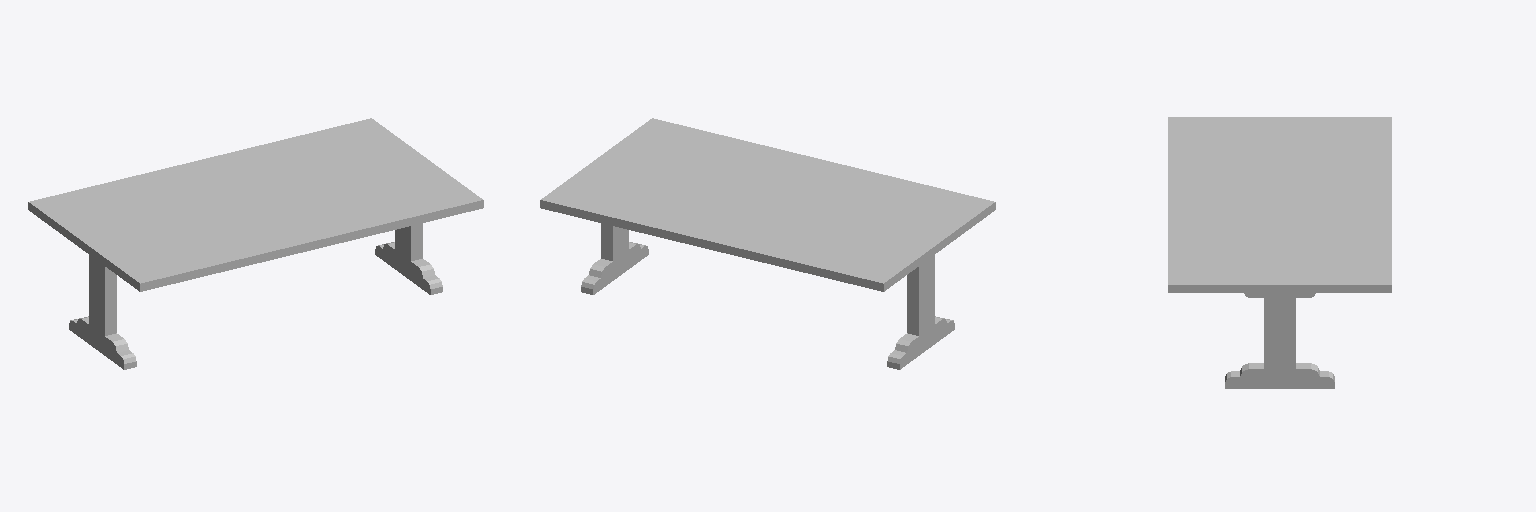
Rendered from TableSPExport.obj.
3 views of the same model, side by side, from view 1: azimuth 30°, elevation 25°; view 2: azimuth 150°, elevation 25°; view 3: azimuth 270°, elevation 25° (orthographic).
Parts seen in each view (by area): view 1: Table; view 2: Table; view 3: Table.
Boxes of the visible parts, x1,y1,x2,y2 form: Table: [28, 118, 483, 369]; Table: [540, 118, 995, 369]; Table: [1168, 117, 1391, 388].
Size of the model in its own units: 16.03 by 4.92 by 9.04.